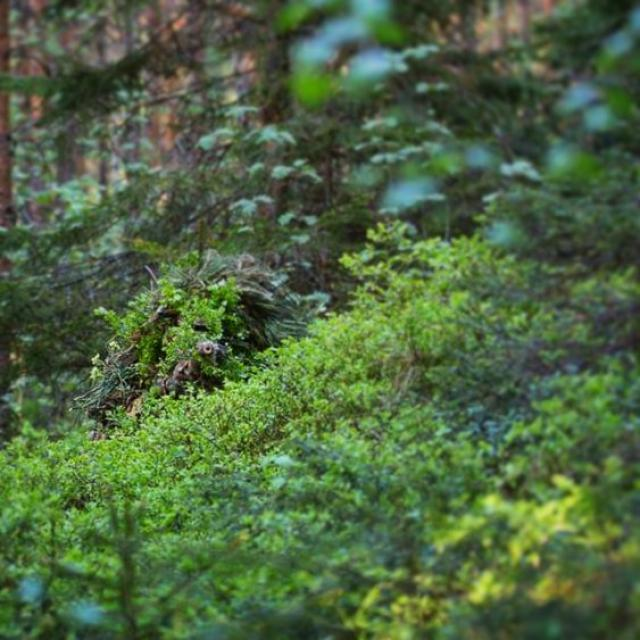Camouflage: (85, 251, 326, 438)
